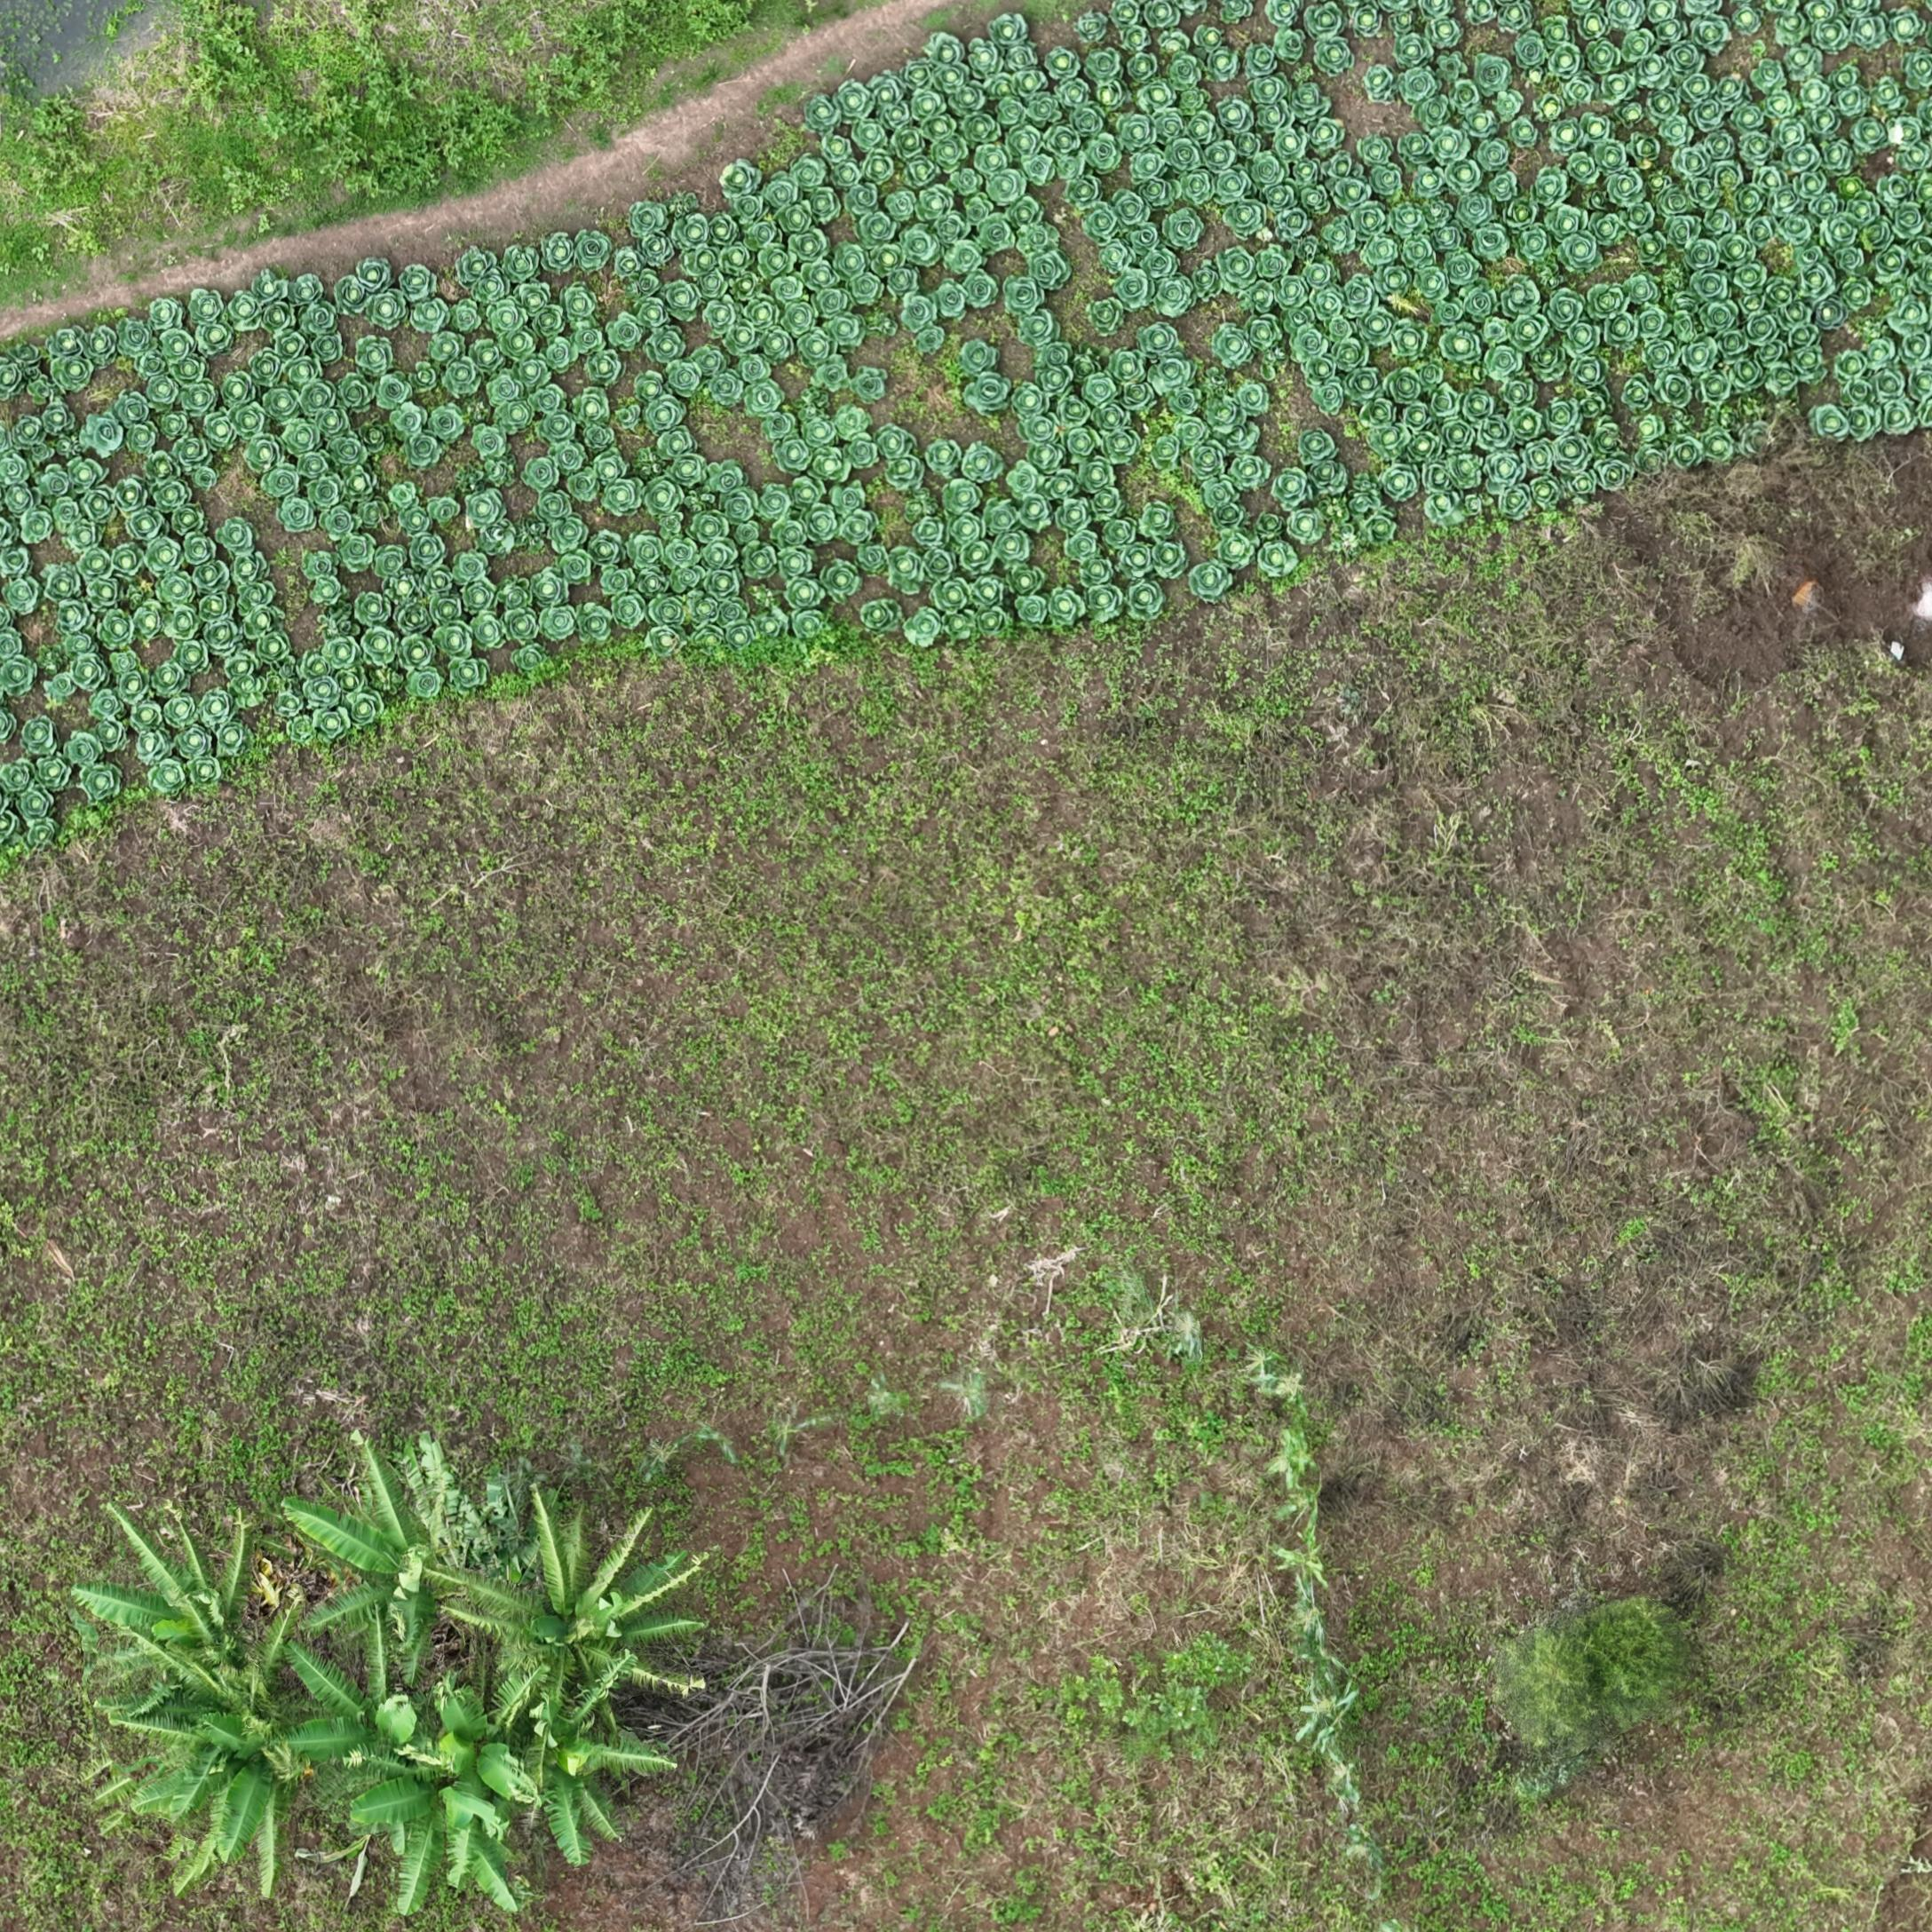Banana: (288, 1530, 527, 1736), (97, 1550, 285, 1753)
